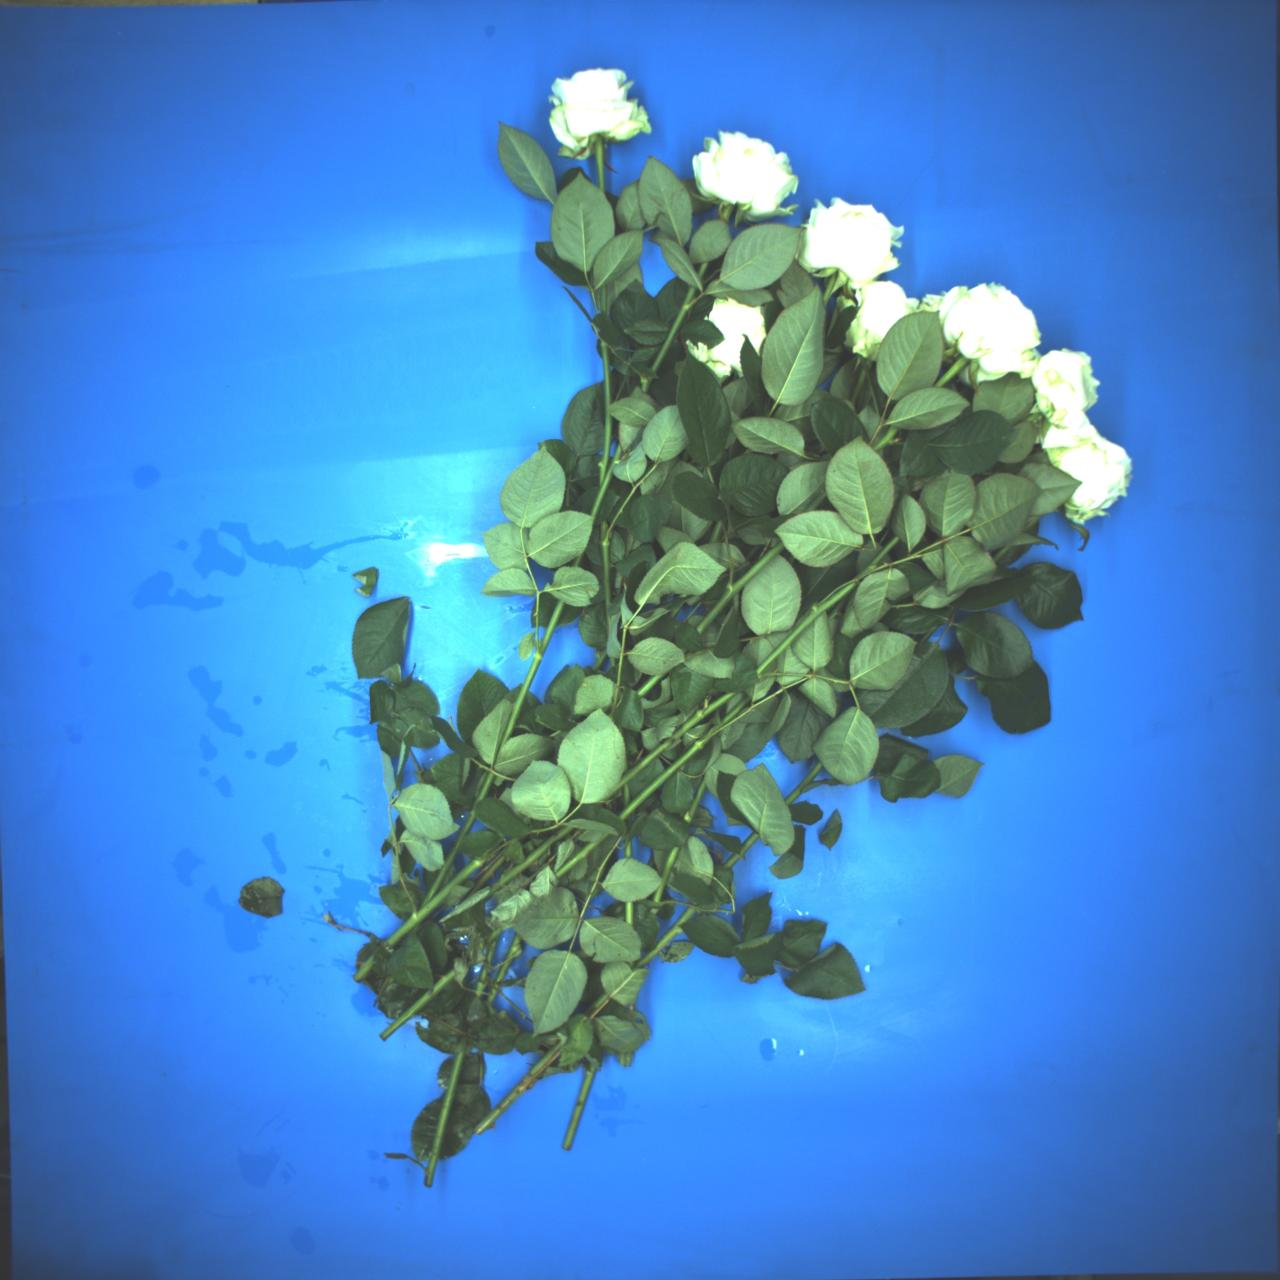Stem: (747, 531, 904, 675), (615, 695, 754, 821), (595, 683, 738, 803), (417, 771, 499, 912), (379, 851, 490, 953), (496, 600, 566, 751), (688, 535, 787, 635), (470, 1041, 567, 1138), (479, 822, 574, 903), (423, 1042, 468, 1187), (379, 968, 458, 1041), (631, 903, 702, 969), (648, 286, 699, 374), (479, 932, 529, 1003), (593, 340, 615, 486), (560, 1064, 598, 1150), (553, 829, 610, 878), (590, 441, 625, 519), (459, 855, 506, 905), (781, 761, 826, 806), (651, 843, 681, 904), (720, 829, 761, 872), (474, 934, 499, 998), (599, 519, 612, 627), (933, 356, 969, 390), (682, 778, 708, 824), (635, 665, 669, 697), (352, 953, 381, 983), (871, 424, 900, 454), (584, 993, 611, 1020), (821, 271, 838, 308), (917, 620, 941, 646), (805, 490, 829, 517), (595, 143, 606, 193), (669, 592, 688, 618), (709, 517, 726, 546), (592, 647, 610, 672), (992, 543, 1010, 563), (625, 815, 632, 858), (620, 782, 632, 808), (720, 203, 735, 222), (695, 259, 709, 279), (640, 375, 654, 393), (571, 551, 584, 570), (625, 903, 634, 928), (599, 286, 606, 314), (625, 1051, 632, 1068), (610, 659, 617, 668)
flower: (680, 118, 810, 230), (1035, 399, 1145, 527), (536, 53, 653, 165), (937, 277, 1044, 384), (795, 192, 908, 293), (679, 284, 778, 384), (825, 267, 921, 366), (1022, 339, 1107, 428)
